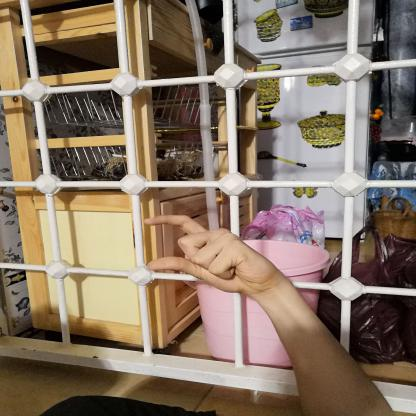DELL: (128, 206, 277, 300)
